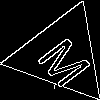M: (36, 29, 100, 90)
